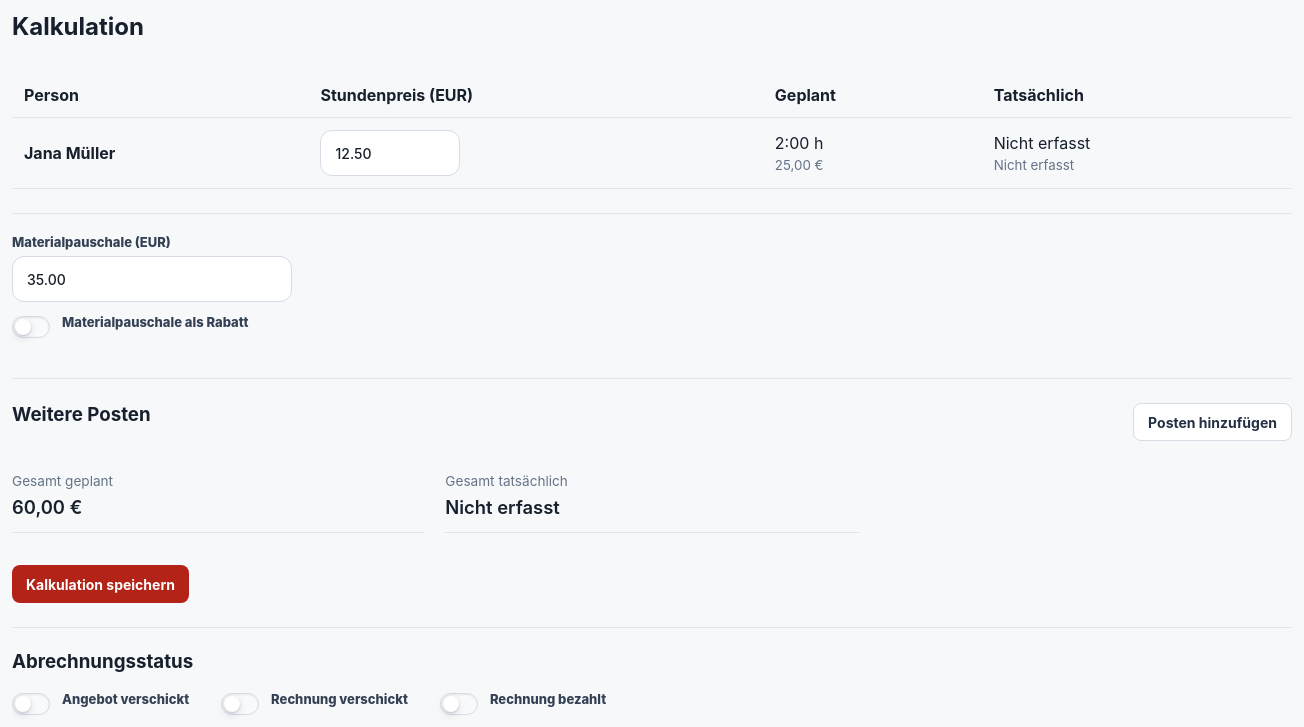
Test case: keeps save errors visible without discarding the entered price
The width and height of the screenshot is (1304, 727).
Replace the text in the field named "Stundenpreis für Jana Müller (EUR)" with "18" at coordinates (390, 153), box [320,130,460,176]
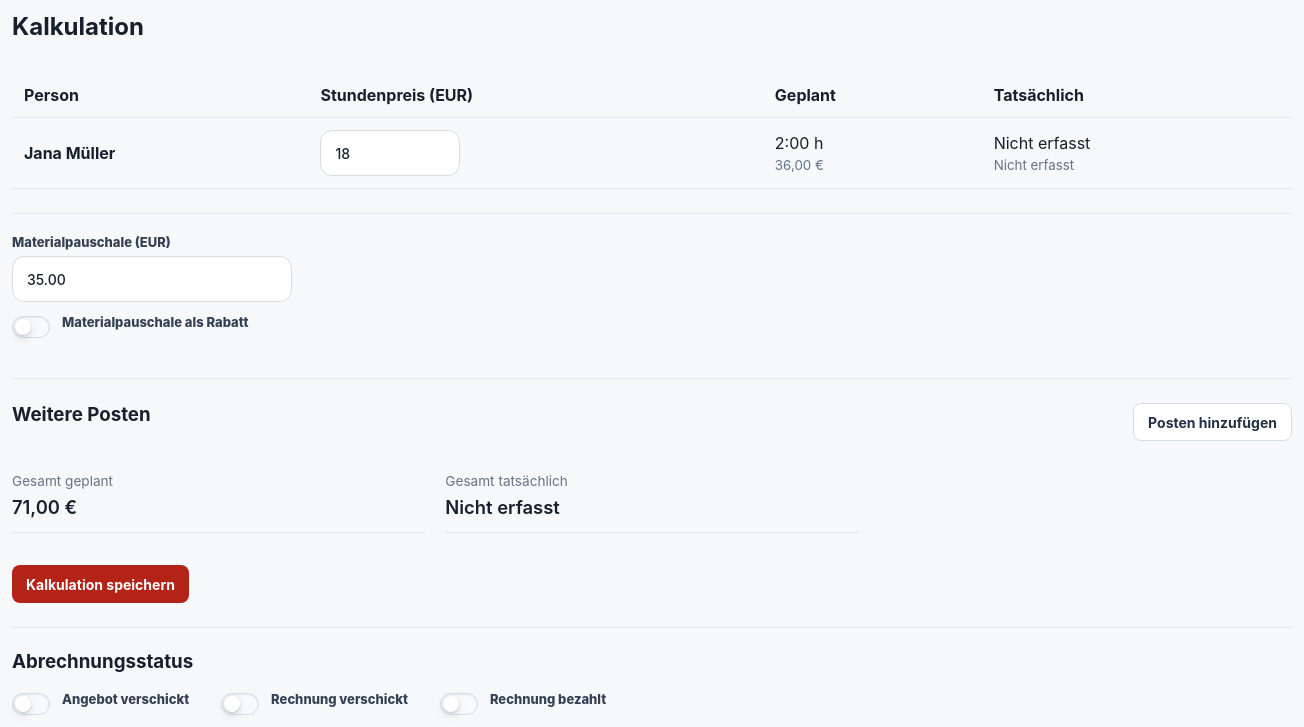
Click the button "Kalkulation speichern" at coordinates (100, 584), box [12,565,189,603]
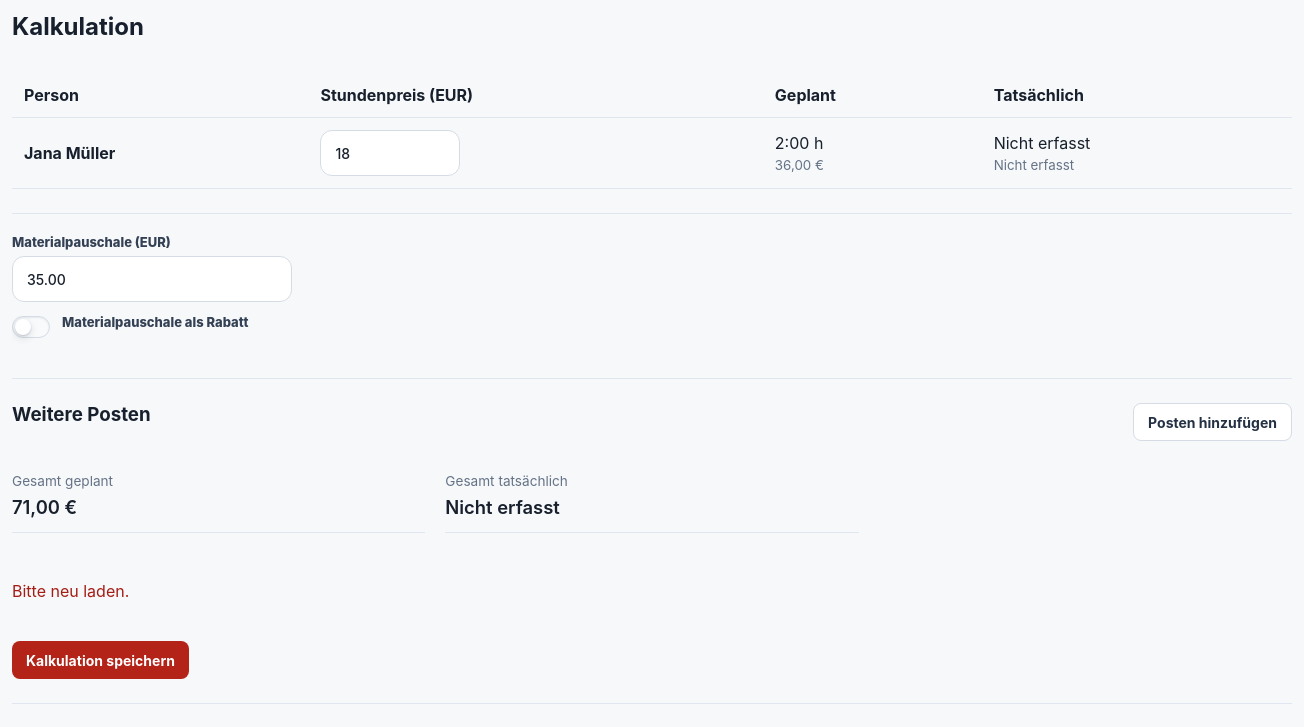
Now the message reads "Bitte neu laden.", box [12,581,129,601]
